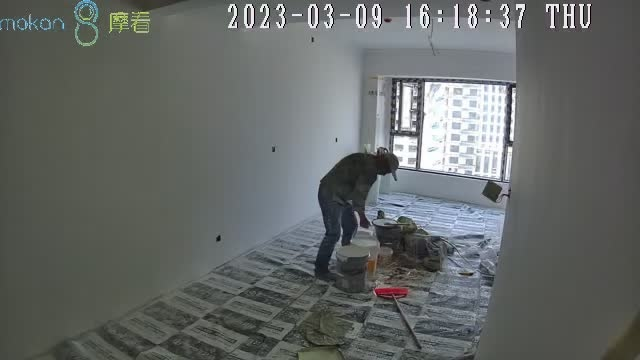people: (315, 149, 399, 279)
window: (390, 77, 515, 191)
